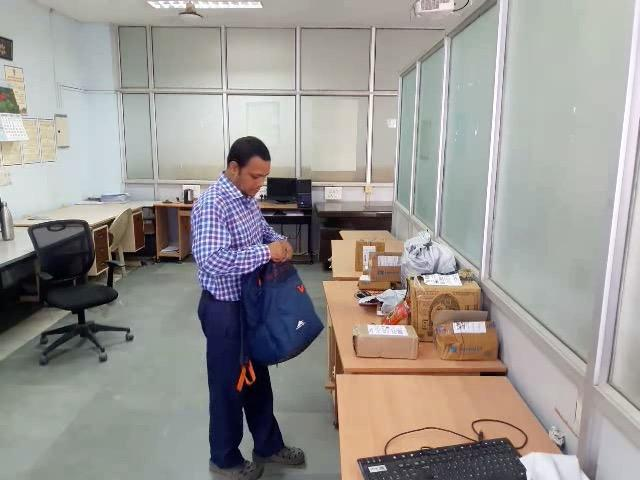shoplifting: (180, 229, 320, 357)
